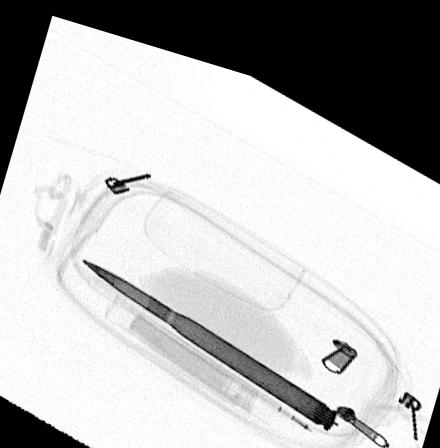Bullet: (80, 253, 338, 412)
